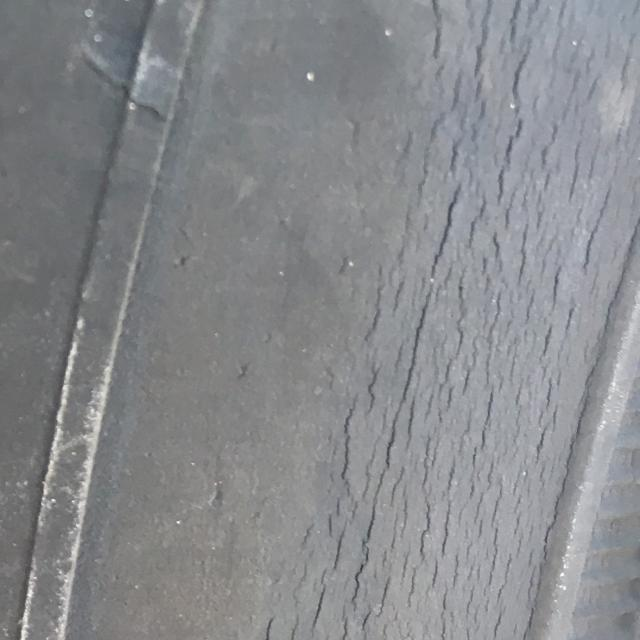Cracks: (210, 0, 639, 639), (60, 33, 189, 155)
Non-defective: (0, 219, 188, 640)
